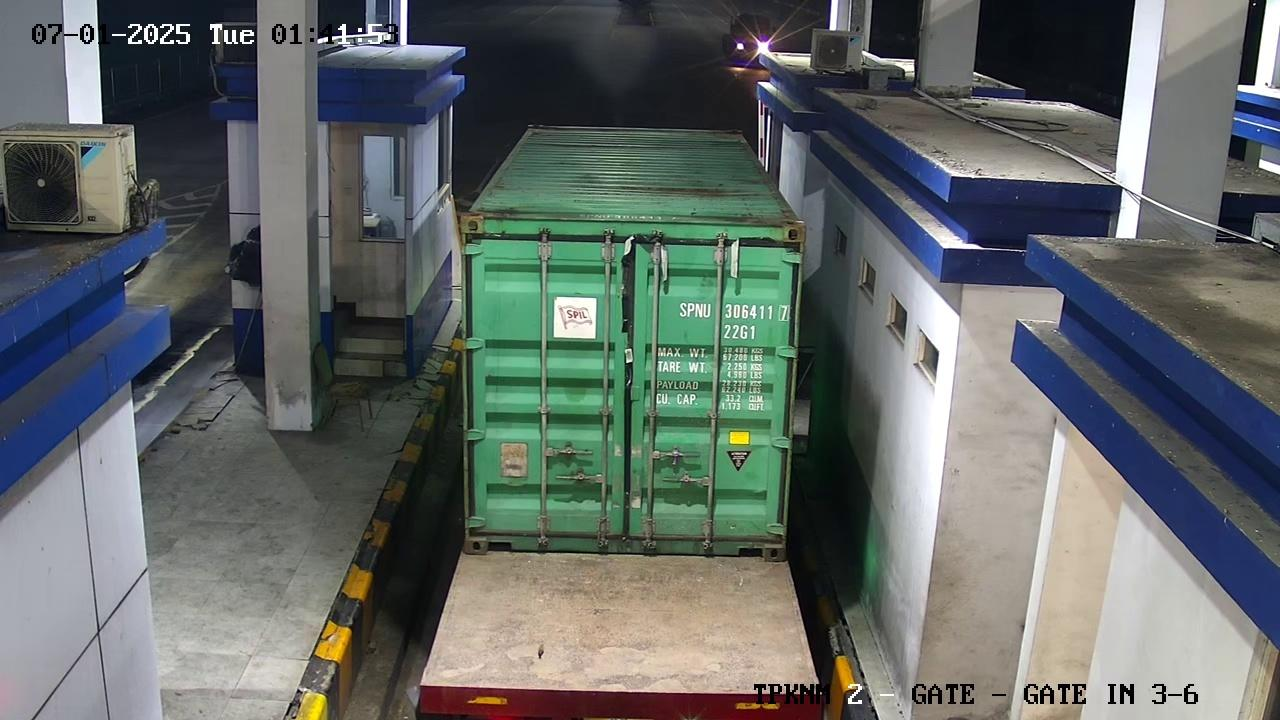Container_ID: (671, 293, 804, 327)
